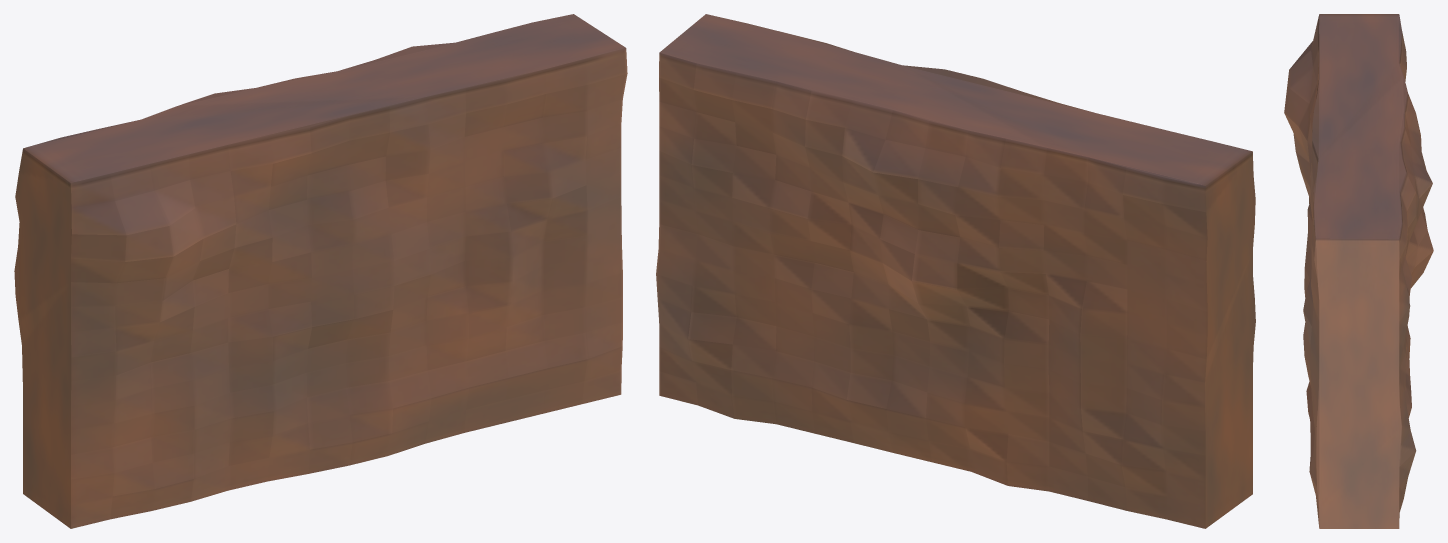
The model's file is caveWallLight.glb.
3 views of the same model, side by side, from view 1: azimuth 30°, elevation 25°; view 2: azimuth 150°, elevation 25°; view 3: azimuth 270°, elevation 25° (orthographic). The views are drawn at different scales.
Parts seen in each view (by area): view 1: Cube; view 2: Cube; view 3: Cube.
Part boxes in pixels (x1,y1,x2,y2): Cube: (14,14,627,528); Cube: (656,14,1255,528); Cube: (1284,14,1433,528).
Size of the model in its own units: 10.16 by 6.11 by 2.81.
1 material, 1 textured.
